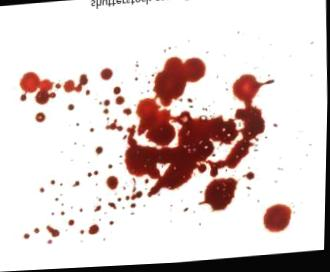Fire: (127, 59, 275, 198), (203, 180, 239, 212), (20, 72, 54, 103), (265, 207, 292, 235), (65, 75, 88, 92), (107, 120, 124, 131), (106, 177, 120, 190), (101, 69, 113, 81), (47, 226, 60, 237), (89, 225, 100, 236), (132, 192, 144, 201), (35, 112, 45, 122), (244, 175, 256, 183), (116, 97, 125, 106), (96, 147, 104, 155), (114, 87, 121, 95), (20, 93, 27, 101), (109, 203, 117, 210), (133, 180, 137, 193), (123, 109, 130, 116), (104, 100, 110, 107), (95, 206, 102, 212), (103, 109, 109, 115), (68, 104, 74, 110), (50, 180, 56, 186), (34, 228, 40, 234), (74, 182, 80, 187), (40, 187, 46, 192), (47, 240, 53, 245), (86, 90, 91, 95), (90, 128, 95, 133), (94, 171, 99, 176), (188, 99, 193, 104), (24, 234, 30, 238), (131, 205, 137, 209), (184, 209, 190, 213), (56, 84, 61, 88), (88, 173, 92, 178), (55, 197, 60, 201), (127, 197, 131, 201), (275, 126, 279, 130), (80, 208, 84, 212), (61, 212, 65, 216), (118, 199, 123, 202), (248, 189, 253, 192), (52, 213, 55, 215)
